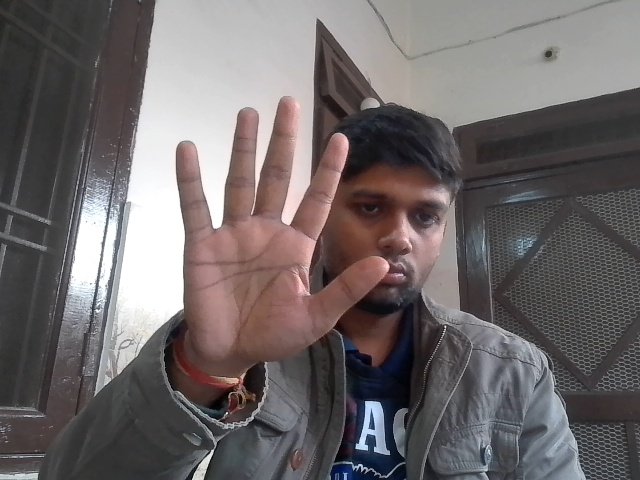Hello: (161, 96, 396, 379)
